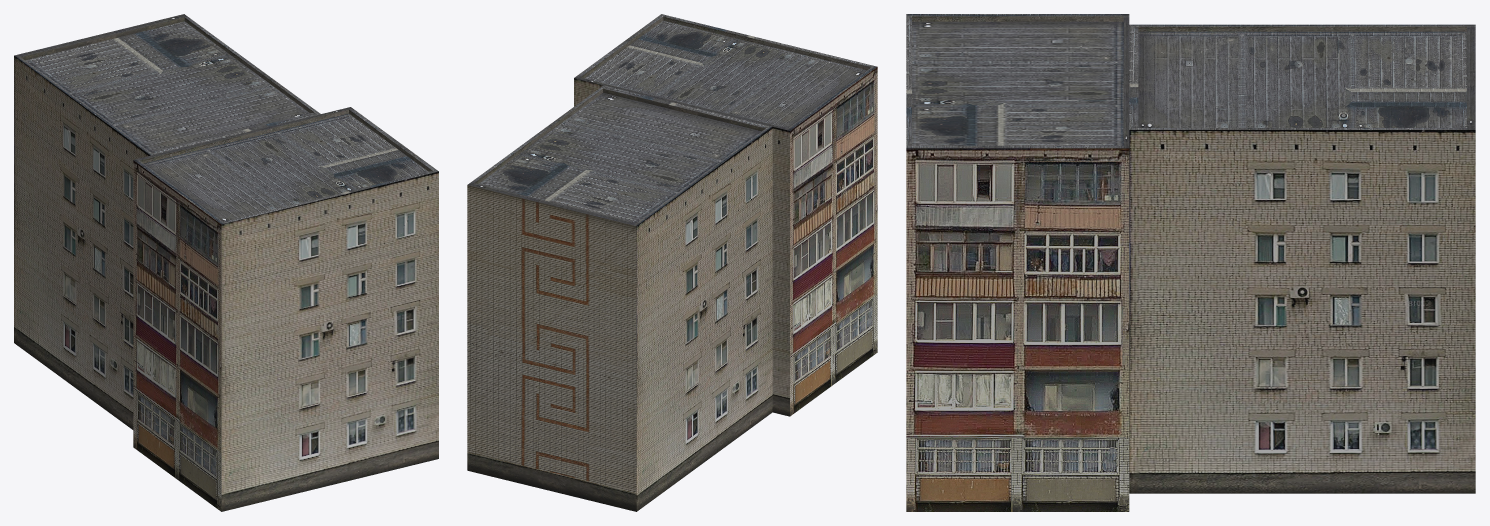
Rendered from r402_ishim_dom9.FBX.
3 renders of one model, left to right at view 1: azimuth 30°, elevation 25°; view 2: azimuth 150°, elevation 25°; view 3: azimuth 270°, elevation 25°, orthographic. The views are drawn at different scales.
Parts seen in each view (by area): view 1: r402_ishim_dom9; view 2: r402_ishim_dom9; view 3: r402_ishim_dom9.
Boxes of the visible parts, x1,y1,x2,y2 form: r402_ishim_dom9: (14, 14, 438, 511); r402_ishim_dom9: (467, 14, 877, 511); r402_ishim_dom9: (906, 14, 1475, 511).
Size of the model in its own units: 1187 by 2128 by 1500.
